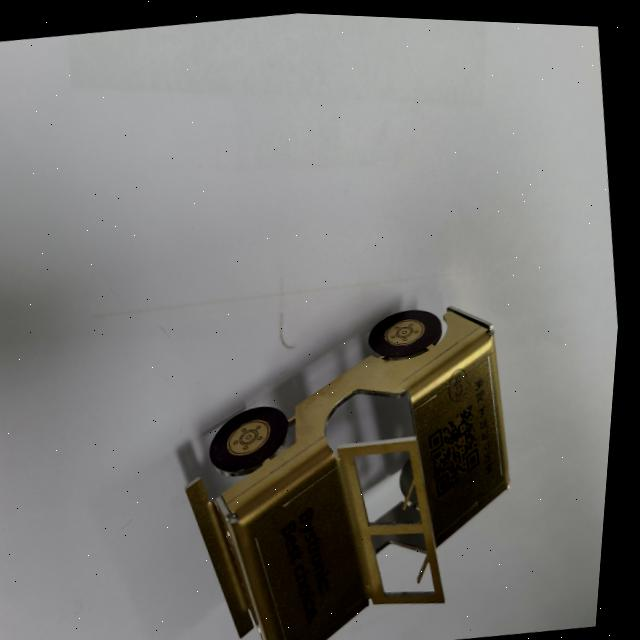tire: (209, 393, 307, 478), (368, 297, 455, 363)
